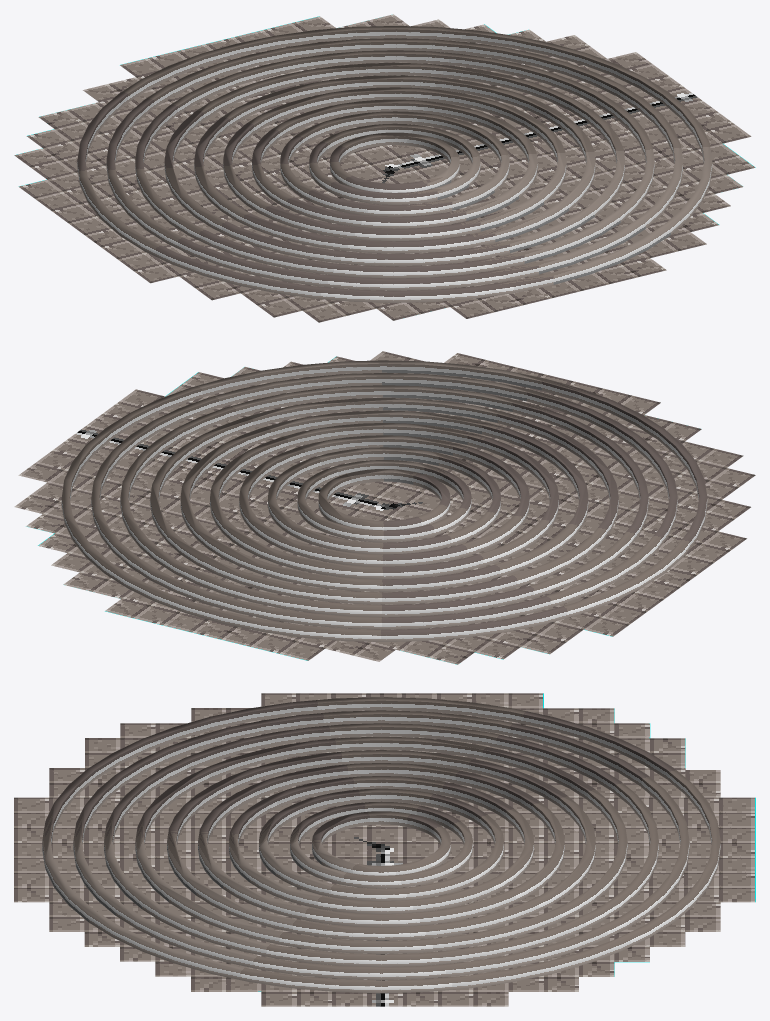
Rendered from planetary_path_755x00.gltf.
3 renders of one model, top to bottom at view 1: azimuth 30°, elevation 25°; view 2: azimuth 150°, elevation 25°; view 3: azimuth 270°, elevation 25°, orthographic. The views are drawn at different scales.
Parts seen in each view (by area): view 1: planetary_path_755x00; view 2: planetary_path_755x00; view 3: planetary_path_755x00.
Part boxes in pixels (x1=…): planetary_path_755x00: x1=14, y1=14, x2=755, y2=322; planetary_path_755x00: x1=14, y1=351, x2=755, y2=664; planetary_path_755x00: x1=14, y1=693, x2=755, y2=1006.
Size of the model in its own units: 21 by 0.318 by 21.
Materials: 2 (2 with a texture image).
